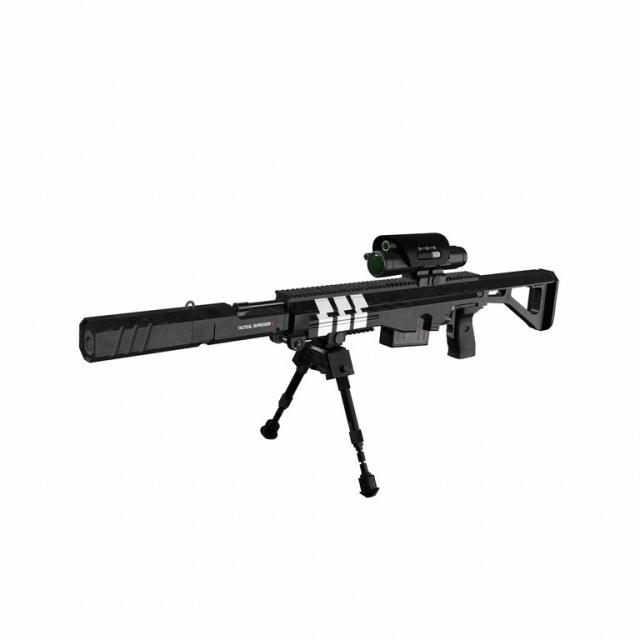Rifle: (79, 233, 560, 366)
